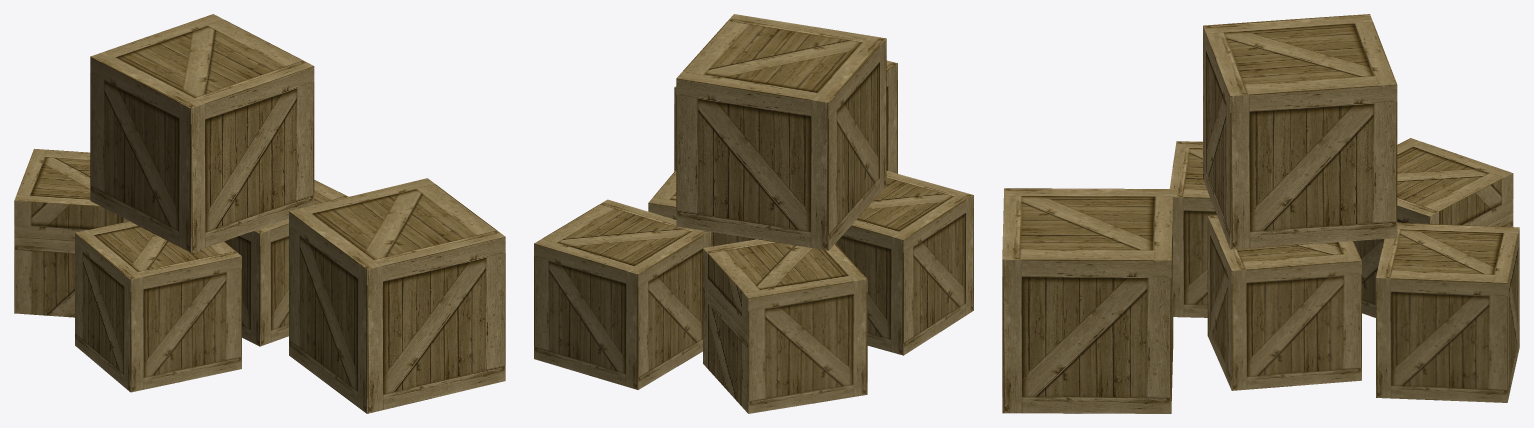
The model's file is boxes-a.obj.
3 views of the same model, side by side, from view 1: azimuth 30°, elevation 25°; view 2: azimuth 150°, elevation 25°; view 3: azimuth 270°, elevation 25° (orthographic). The views are drawn at different scales.
Visible parts, largest first — view 1: entity0_brush5, entity0_brush1, entity0_brush0, entity0_brush4, entity0_brush2; view 2: entity0_brush5, entity0_brush3, entity0_brush4, entity0_brush0, entity0_brush1, entity0_brush2; view 3: entity0_brush5, entity0_brush1, entity0_brush3, entity0_brush2, entity0_brush4, entity0_brush0.
Boxes of the visible parts, <box> form: entity0_brush5: <box>90,14,314,252</box>; entity0_brush1: <box>289,178,505,413</box>; entity0_brush0: <box>75,221,241,392</box>; entity0_brush4: <box>14,149,129,317</box>; entity0_brush2: <box>224,180,348,346</box>; entity0_brush5: <box>676,14,886,250</box>; entity0_brush3: <box>534,199,711,389</box>; entity0_brush4: <box>703,239,867,413</box>; entity0_brush0: <box>835,171,973,355</box>; entity0_brush1: <box>674,60,897,173</box>; entity0_brush2: <box>648,170,756,246</box>; entity0_brush5: <box>1203,14,1397,249</box>; entity0_brush1: <box>1002,188,1173,413</box>; entity0_brush3: <box>1376,222,1519,402</box>; entity0_brush2: <box>1207,215,1361,390</box>; entity0_brush4: <box>1353,138,1513,317</box>; entity0_brush0: <box>1169,141,1216,317</box>.
Size of the model in its own units: 120 by 98 by 168.
